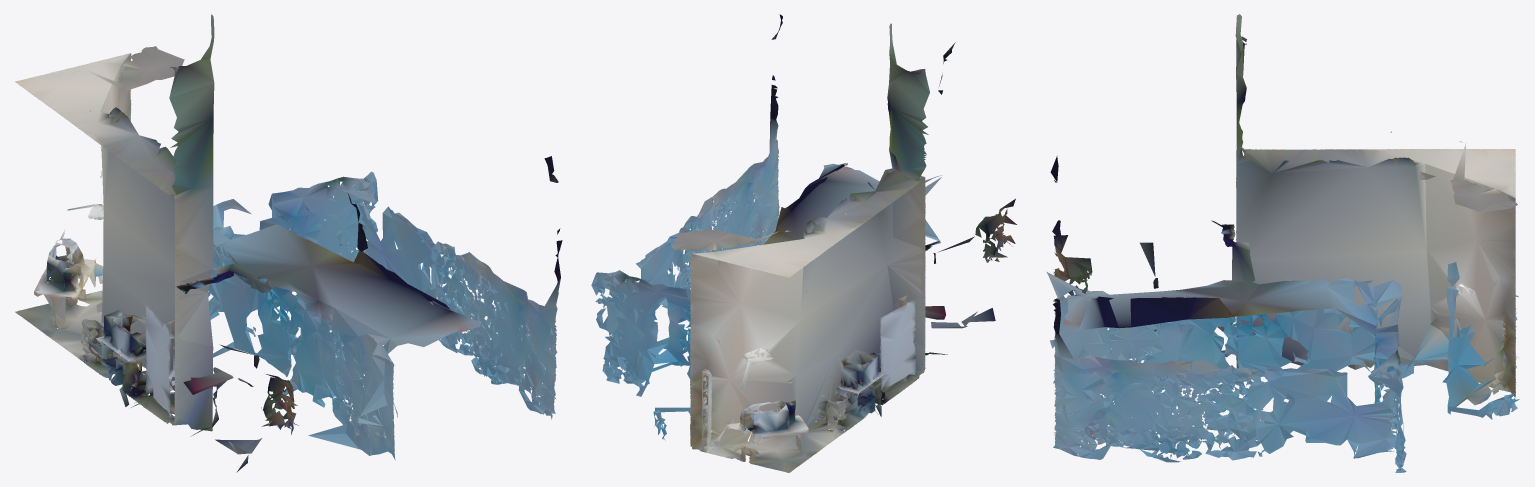
3 renders of one model, left to right at view 1: azimuth 30°, elevation 25°; view 2: azimuth 150°, elevation 25°; view 3: azimuth 270°, elevation 25°, orthographic. The views are drawn at different scales.
Bounding box in the file's own units: 6.73 × 8.77 × 10.3.
